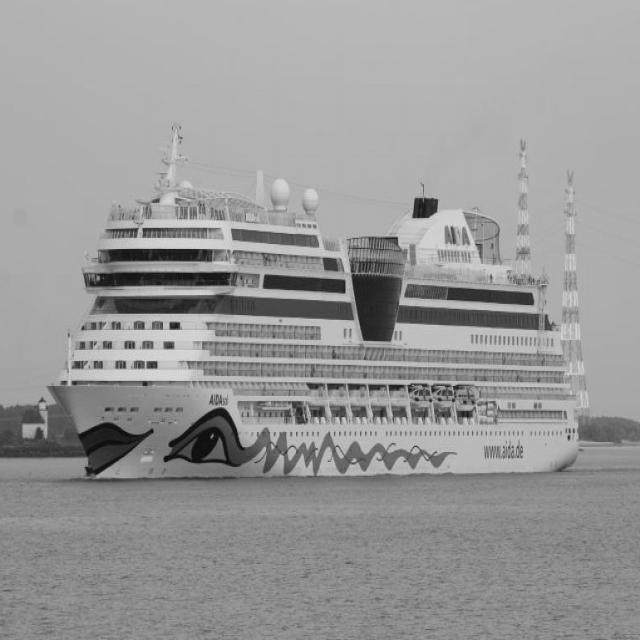cruises: (47, 134, 593, 488)
